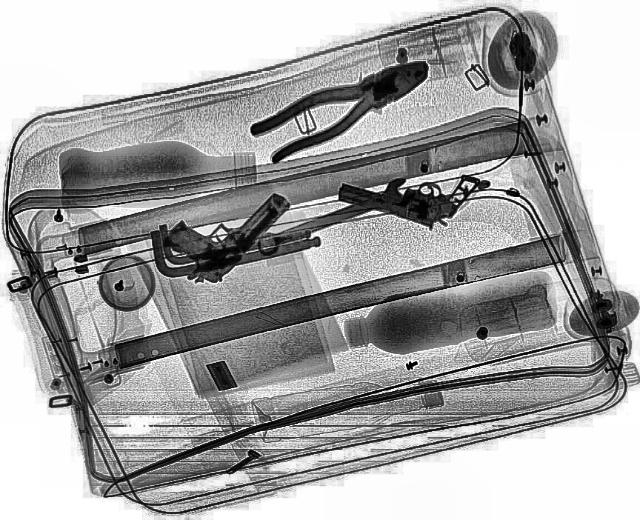Gun: (142, 166, 298, 294), (329, 146, 481, 232)
Pliers: (242, 46, 444, 164)
Wrench: (248, 175, 420, 258)
